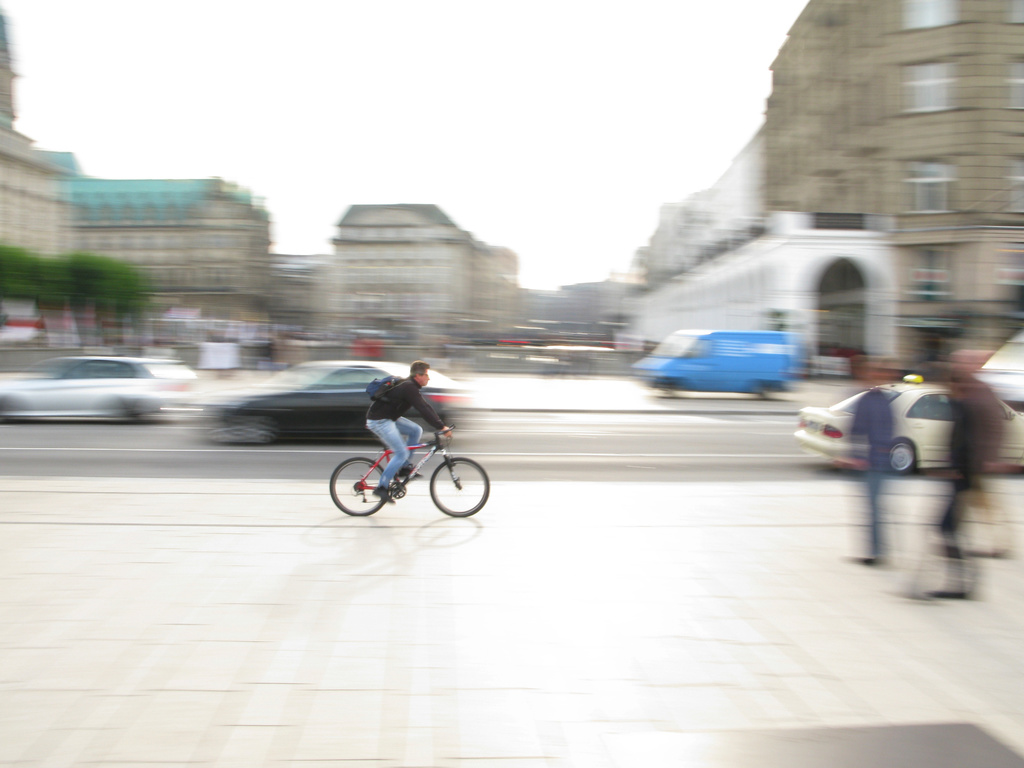Bike_away: (334, 423, 489, 520)
